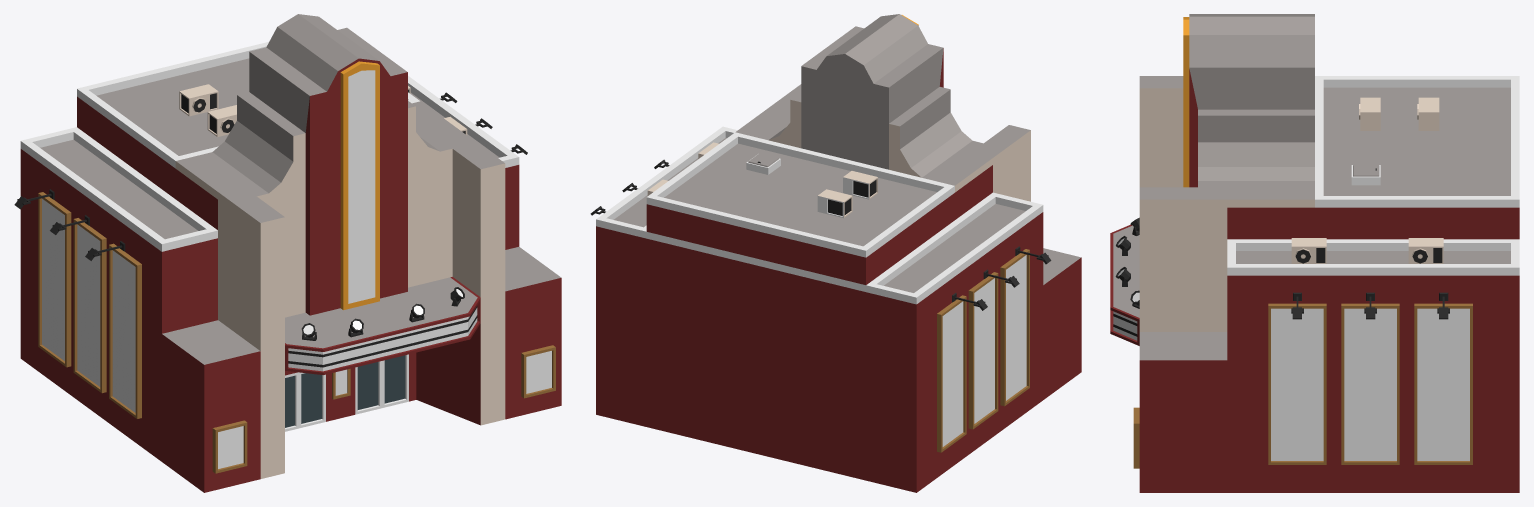
The model's file is buildings_building-cinema.fbx.
3 renders of one model, left to right at view 1: azimuth 30°, elevation 25°; view 2: azimuth 150°, elevation 25°; view 3: azimuth 270°, elevation 25°, orthographic. The views are drawn at different scales.
Parts seen in each view (by area): view 1: buildings_building_cinema; view 2: buildings_building_cinema; view 3: buildings_building_cinema.
Boxes of the visible parts, bbox=[...] form: buildings_building_cinema: bbox=[14, 14, 561, 492]; buildings_building_cinema: bbox=[590, 14, 1081, 492]; buildings_building_cinema: bbox=[1110, 14, 1519, 492].
Size of the model in its own units: 200 by 163 by 156.
